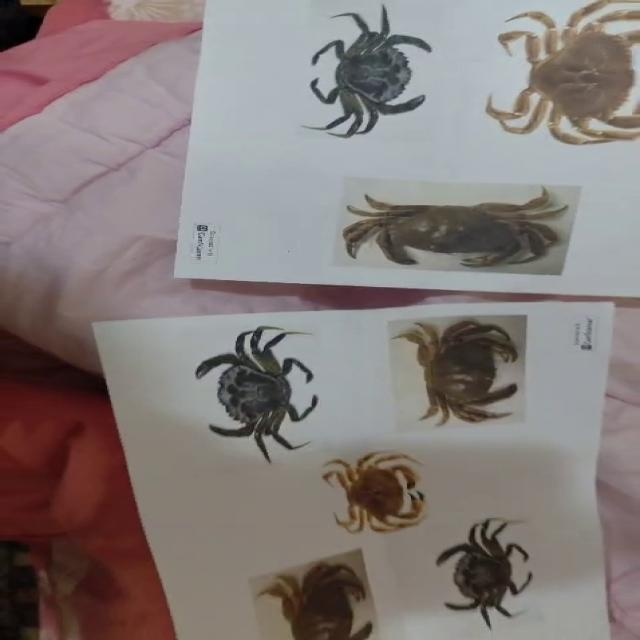egc: (304, 5, 431, 138), (195, 326, 317, 462), (436, 518, 532, 629)
